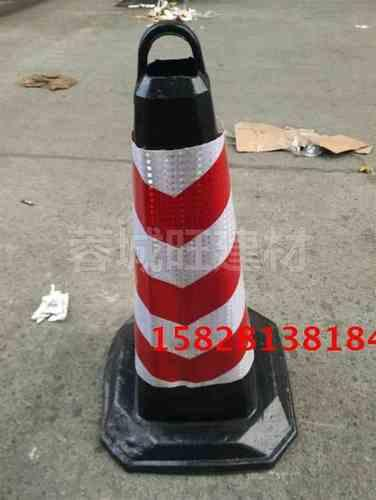sign: (90, 19, 298, 469)
